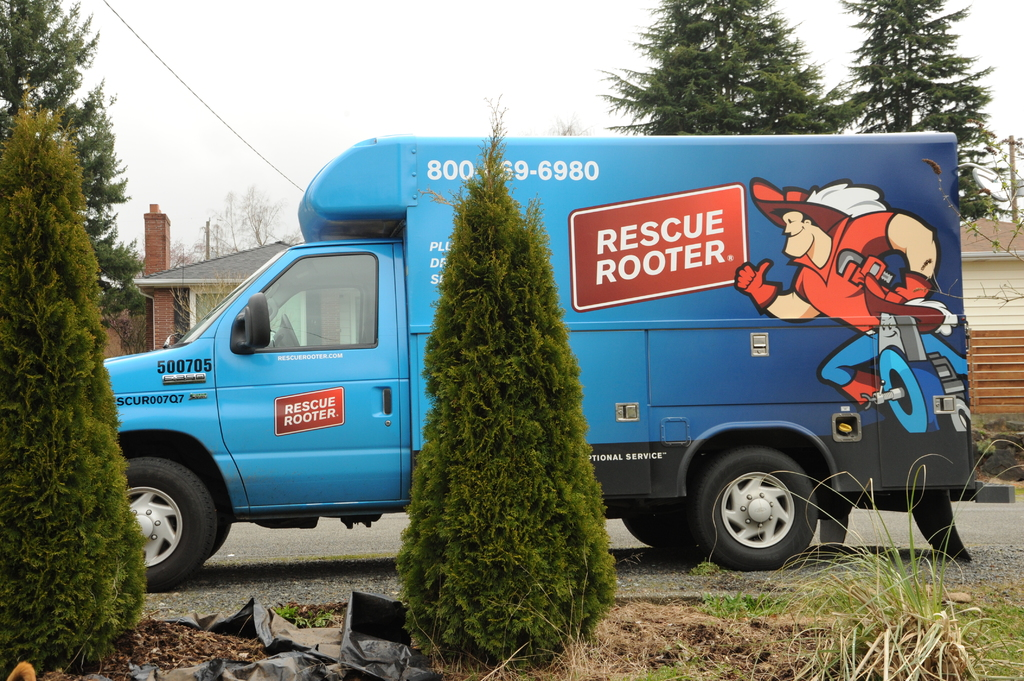truck: (45, 97, 991, 609)
